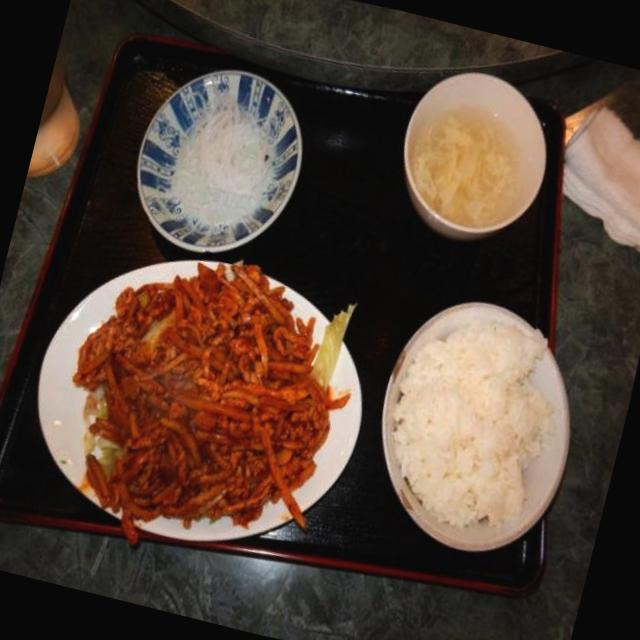Rice: (370, 302, 586, 544)
